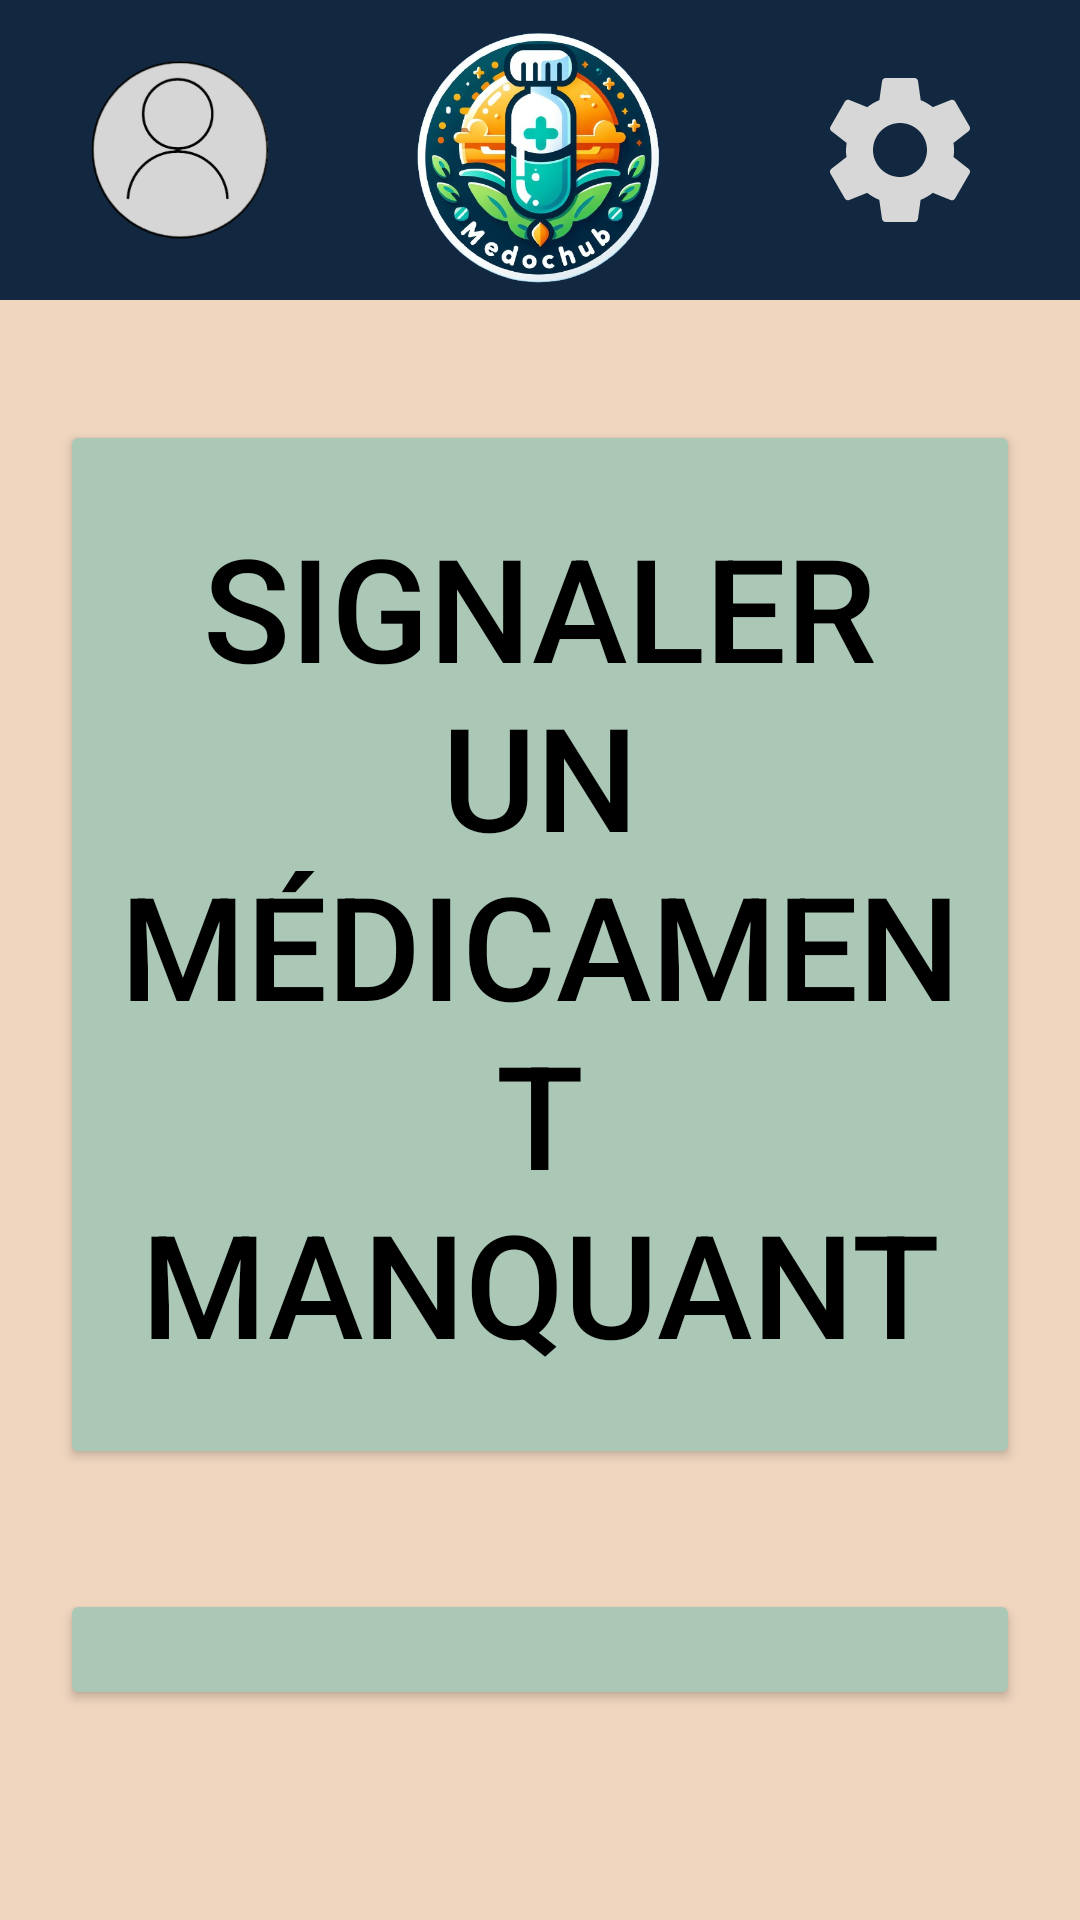

Icons on this 1080w x 1920h Android screen, each with its box as rect(x1, y1, x2, y2):
settings: rect(830, 78, 970, 222)
